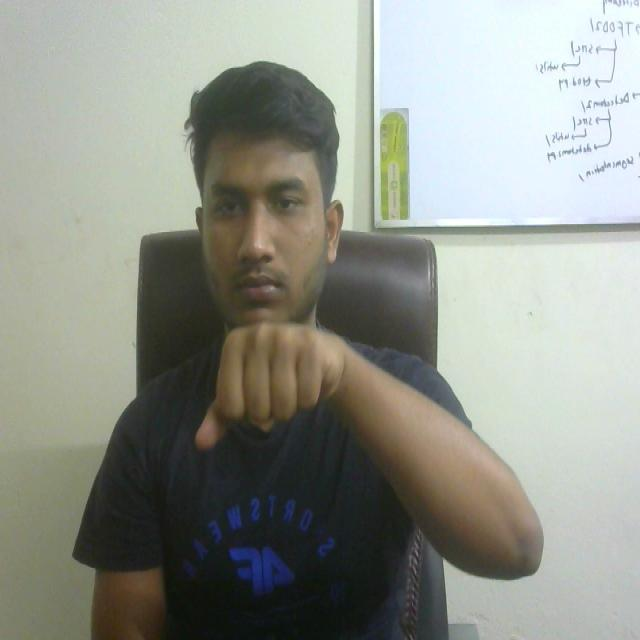I: (182, 293, 365, 488)
